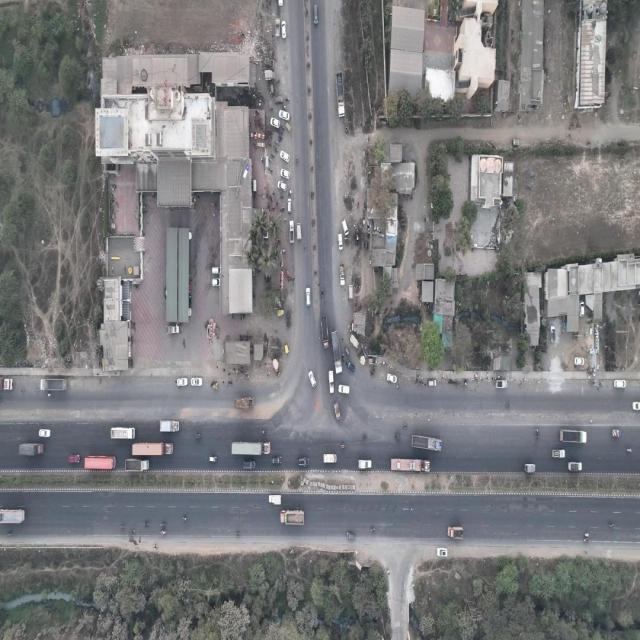3W: (286, 122, 292, 132), (345, 346, 350, 356), (278, 310, 285, 317), (284, 342, 288, 354), (286, 310, 292, 318), (287, 318, 291, 329), (395, 433, 401, 440), (195, 434, 201, 439)
Bus: (84, 456, 116, 470), (0, 508, 25, 524), (110, 428, 135, 440)
Cars: (38, 428, 51, 439), (323, 453, 337, 463), (436, 547, 448, 558), (243, 460, 256, 470), (297, 457, 310, 467), (359, 460, 373, 469), (176, 377, 188, 387), (338, 385, 350, 395), (387, 373, 397, 385), (614, 379, 626, 389), (309, 371, 316, 388), (280, 150, 289, 163), (305, 287, 311, 306), (281, 20, 287, 39), (271, 455, 282, 465), (279, 110, 289, 121), (69, 455, 81, 464), (191, 378, 203, 387), (346, 360, 355, 372), (550, 325, 556, 343), (343, 219, 349, 236), (280, 169, 290, 179), (271, 117, 280, 128), (347, 530, 356, 540), (575, 357, 585, 366), (278, 181, 287, 191), (579, 300, 584, 317), (338, 234, 343, 251), (212, 266, 221, 275), (212, 278, 221, 287), (208, 455, 218, 463), (314, 5, 318, 25), (428, 379, 437, 387), (274, 96, 283, 104), (349, 284, 353, 299), (288, 198, 291, 213)
LCV: (448, 526, 464, 539), (269, 494, 282, 505), (289, 220, 295, 243), (350, 334, 359, 349), (339, 263, 345, 285), (166, 325, 179, 335), (552, 449, 565, 459), (568, 462, 582, 471), (524, 463, 536, 473), (329, 370, 334, 394), (264, 70, 275, 80), (495, 380, 507, 389), (334, 402, 340, 420), (275, 18, 280, 37), (612, 429, 621, 438), (297, 223, 301, 240)
M2W: (120, 524, 126, 530), (386, 567, 390, 576), (130, 529, 136, 534), (153, 544, 158, 550), (583, 538, 589, 543), (341, 444, 346, 449), (362, 434, 367, 439), (7, 532, 12, 537), (144, 522, 149, 527), (161, 530, 166, 535), (182, 516, 187, 521), (370, 528, 375, 533), (262, 431, 268, 435), (161, 523, 167, 527), (583, 533, 589, 537), (608, 524, 614, 528), (404, 424, 408, 430), (276, 201, 279, 208), (270, 195, 273, 202), (235, 532, 240, 536), (535, 435, 540, 439), (627, 449, 632, 453), (296, 156, 298, 166), (342, 352, 344, 361), (322, 289, 324, 298), (536, 428, 540, 432), (271, 206, 275, 210), (269, 168, 273, 172), (271, 154, 275, 158), (286, 98, 290, 102), (280, 195, 284, 199), (281, 207, 285, 210), (283, 106, 287, 109)
MAV: (391, 458, 430, 472), (132, 443, 173, 456), (232, 441, 270, 455)
Truck: (412, 435, 442, 452), (331, 331, 342, 374), (336, 71, 345, 118), (560, 430, 587, 444), (41, 379, 67, 392), (125, 459, 149, 473), (280, 511, 304, 525), (19, 444, 44, 456), (320, 316, 329, 349), (159, 421, 180, 433)
